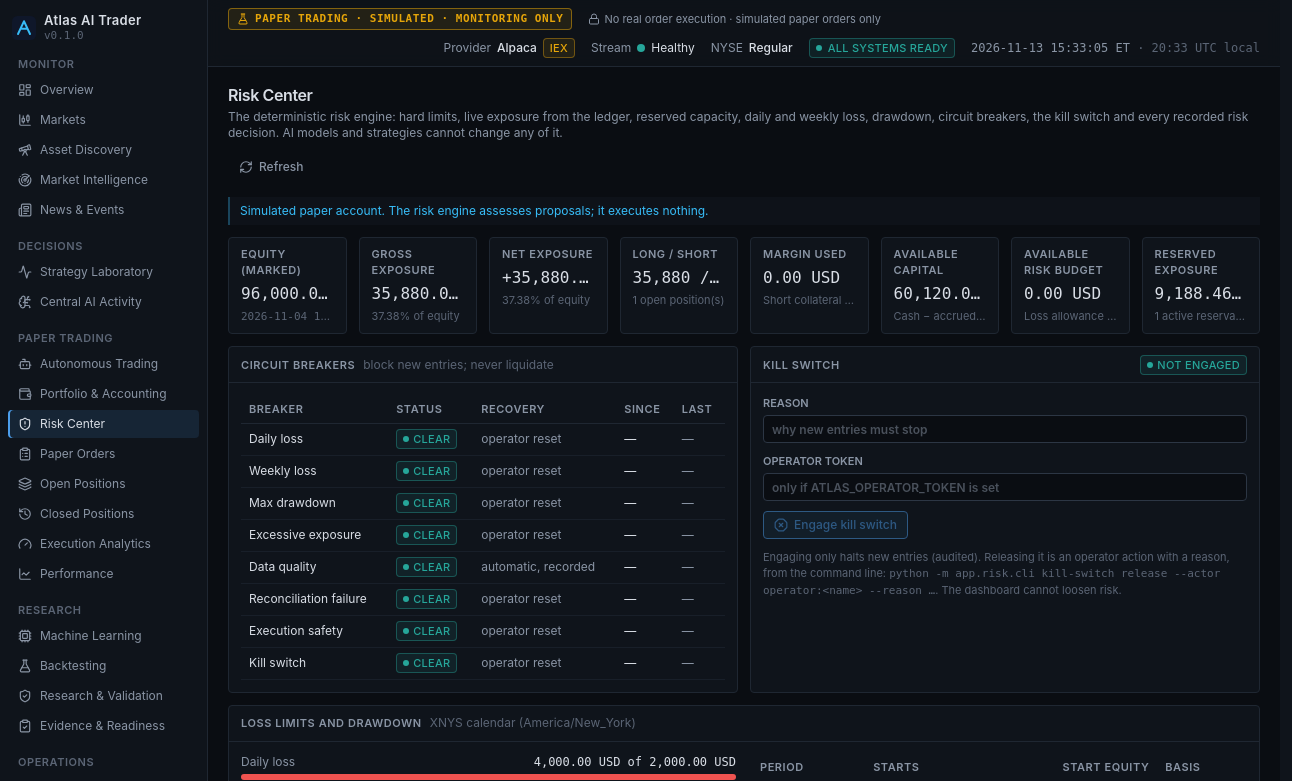
Test case: Risk Center › engages the kill switch with a reason and the operator token
Expected: the button "Engage kill switch" is disabled, [763,511,908,539]
In the field labelled "Reason": coordinates (1005, 429) [763,415,1247,443], type "market dislocation"
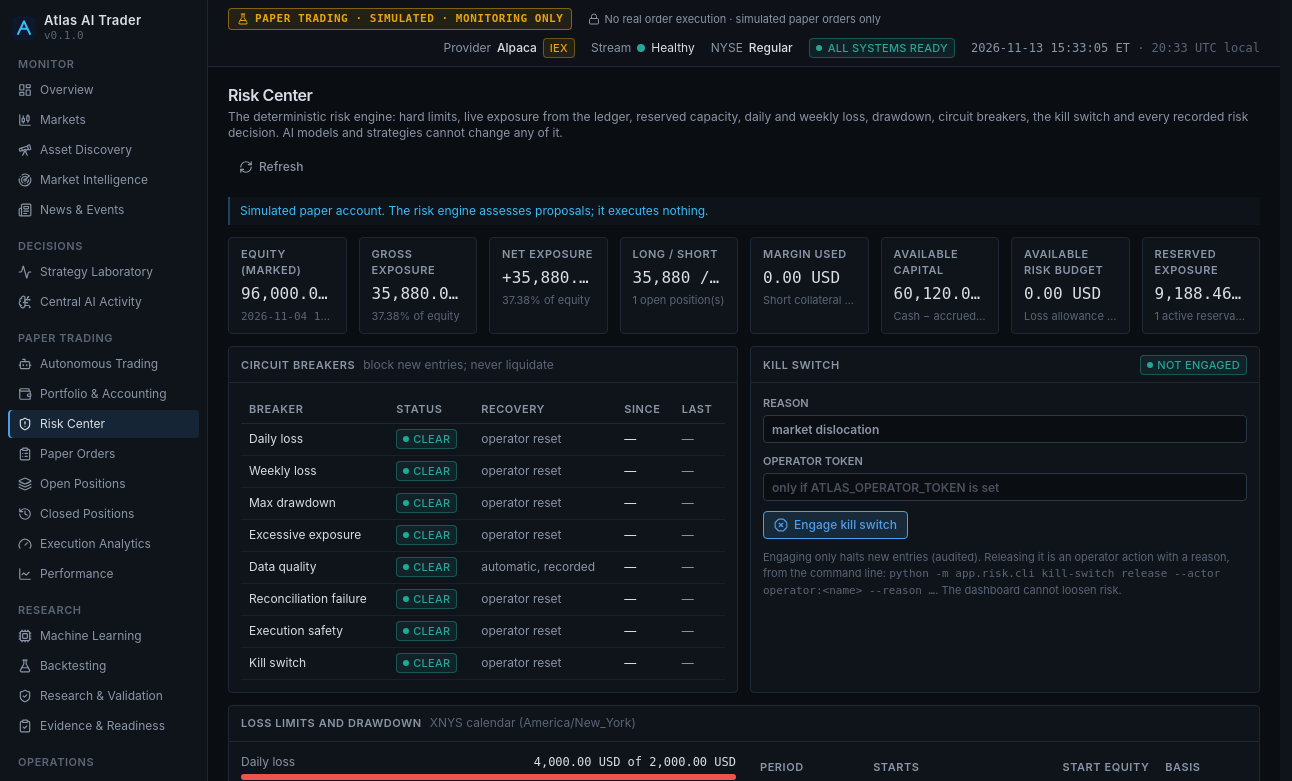
In the password field labelled "Operator token": coordinates (1005, 487) [763,473,1247,501], type "tok"
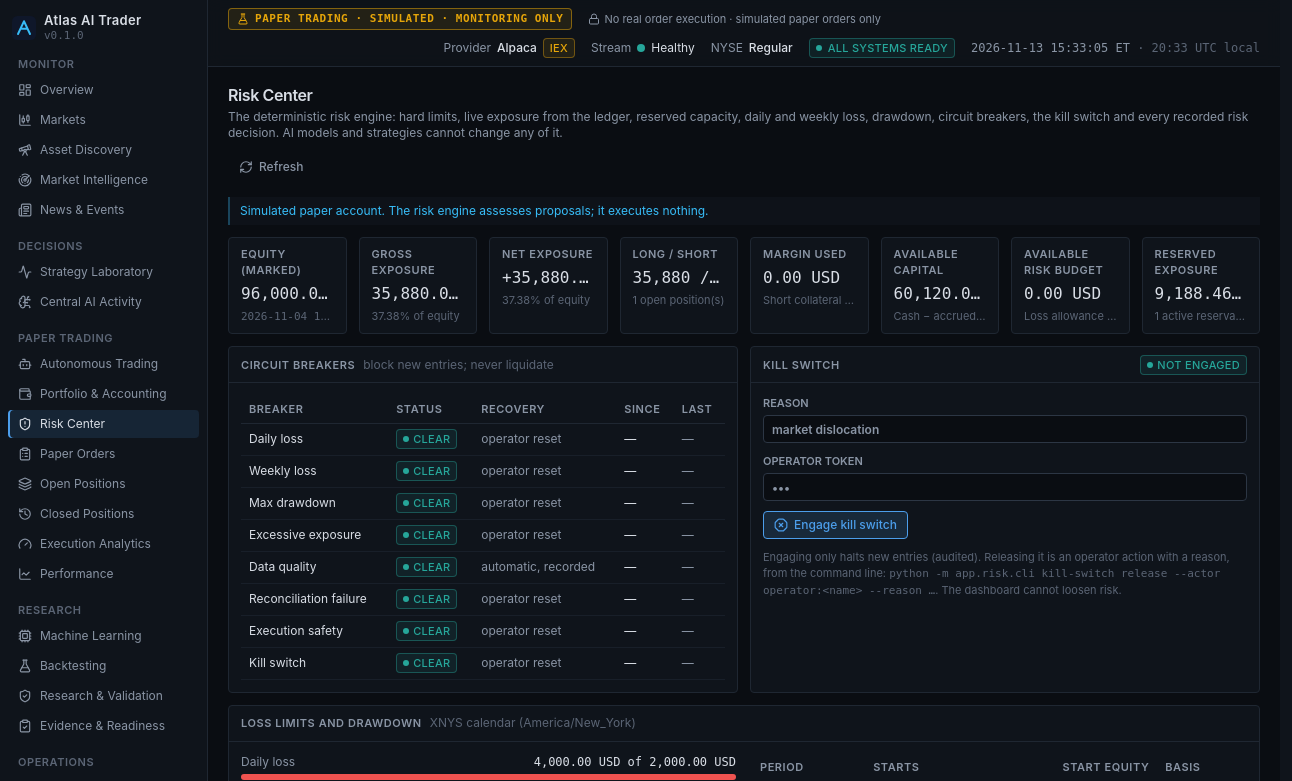
Click the button "Engage kill switch": coordinates (835, 525) [763,511,908,539]
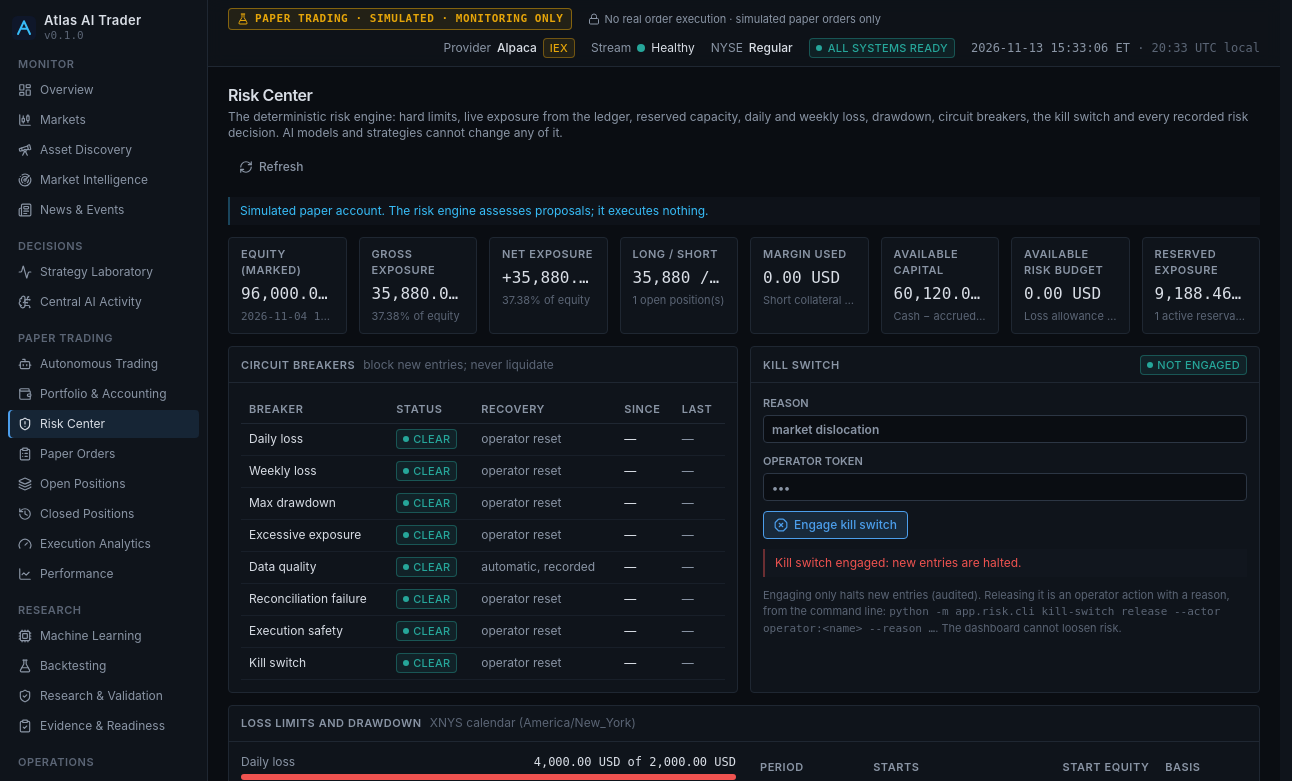
Expected: the text "Kill switch engaged: new entries are halted." is shown, [763,549,1247,577]
